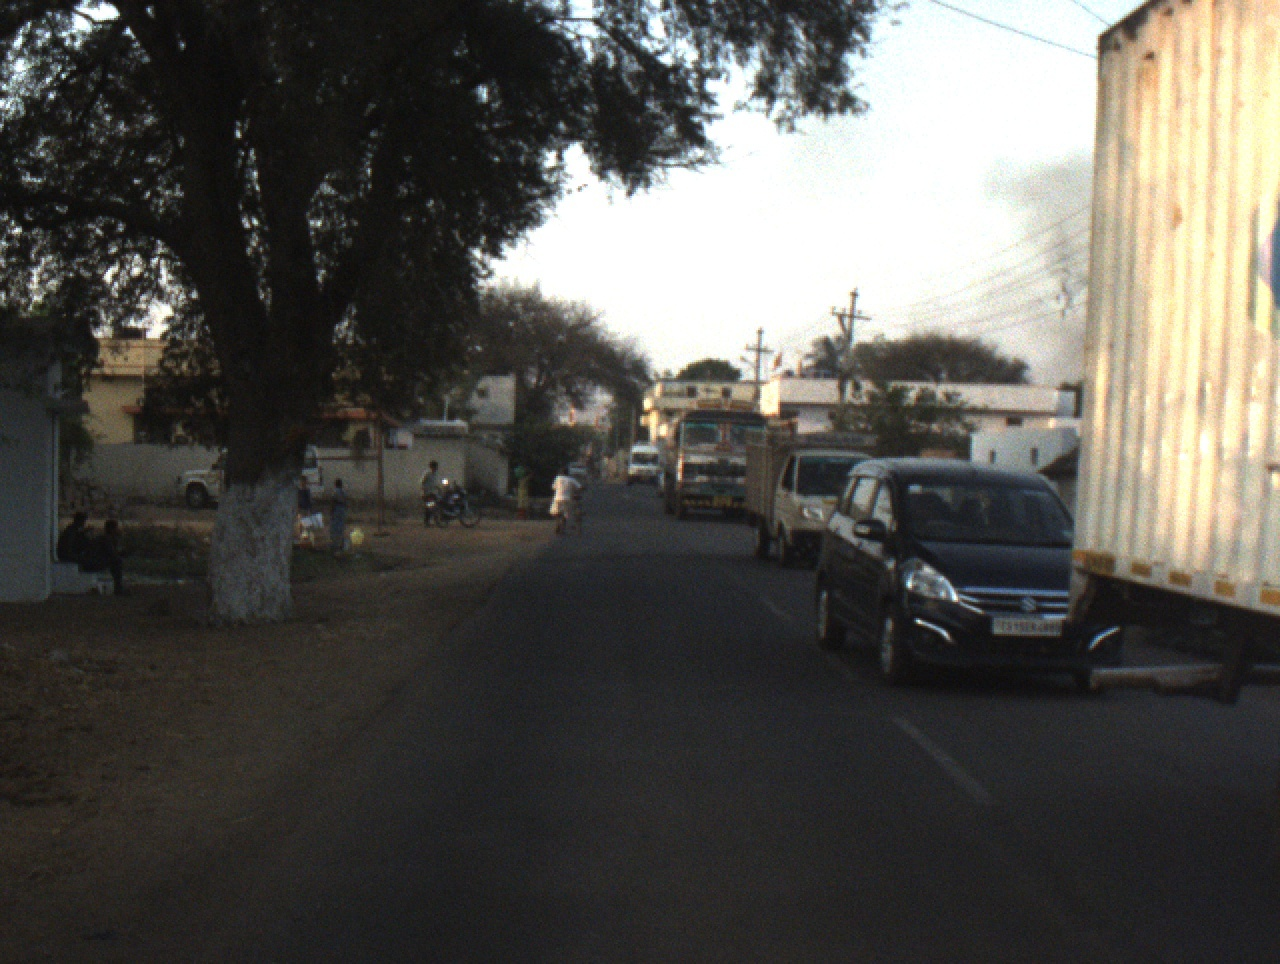bicycle: (572, 484, 589, 534)
bus: (623, 444, 659, 490)
car: (813, 457, 1090, 690), (174, 442, 325, 513), (569, 459, 589, 479)
motorcycle: (423, 478, 483, 531)
person: (84, 516, 134, 597), (55, 508, 93, 566), (326, 476, 350, 553), (513, 463, 531, 523), (296, 474, 311, 539)
rider: (549, 466, 584, 534), (419, 460, 440, 525)
truck: (1066, 1, 1280, 710), (741, 426, 890, 568), (743, 427, 880, 568), (665, 400, 775, 522), (654, 435, 668, 498)
